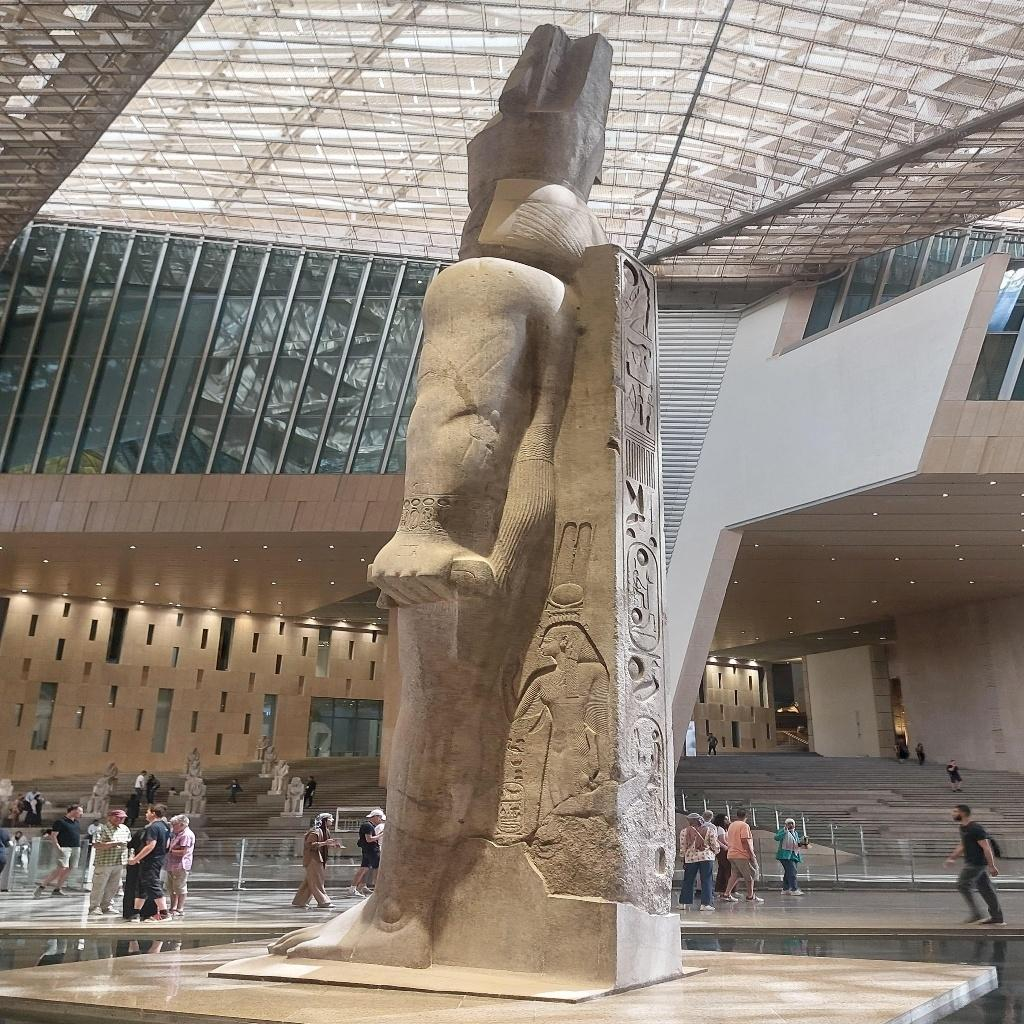Statue of King Ramses II Grand Egyptian Museum: (224, 21, 688, 999)
